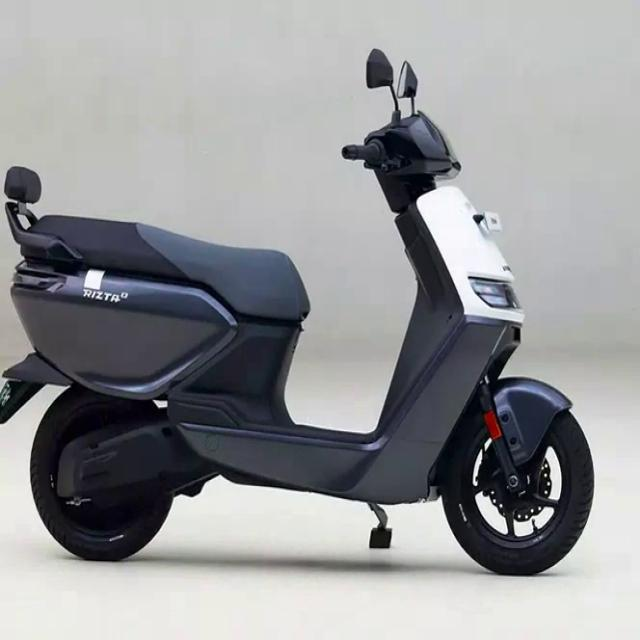objects: (0, 36, 640, 606)
